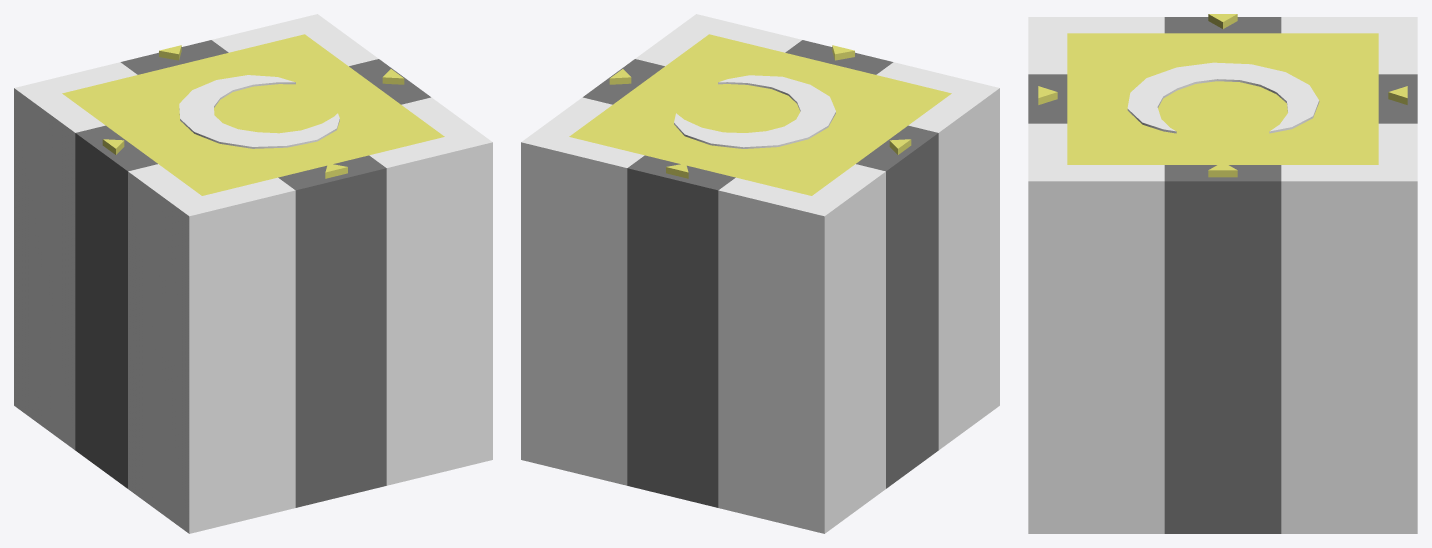
Rendered from MoonTile.fbx.
The picture shows the model from 3 angles, left to right: view 1: azimuth 30°, elevation 25°; view 2: azimuth 150°, elevation 25°; view 3: azimuth 270°, elevation 25°; orthographic projection. The views are drawn at different scales.
Parts seen in each view (by area): view 1: MoonSpawn, Moon, Arrow; view 2: MoonSpawn, Moon, Arrow; view 3: MoonSpawn, Moon, Arrow.
Part boxes in pixels (x1,y1,x2,y2): MoonSpawn: (14, 14, 492, 533); Moon: (179, 75, 339, 148); Arrow: (102, 45, 404, 178); MoonSpawn: (521, 14, 999, 533); Moon: (674, 75, 835, 148); Arrow: (609, 45, 911, 178); MoonSpawn: (1028, 17, 1417, 533); Moon: (1127, 62, 1319, 133); Arrow: (1038, 14, 1407, 177).
Bounding box in the file's own units: 5 × 5.1 × 5.
